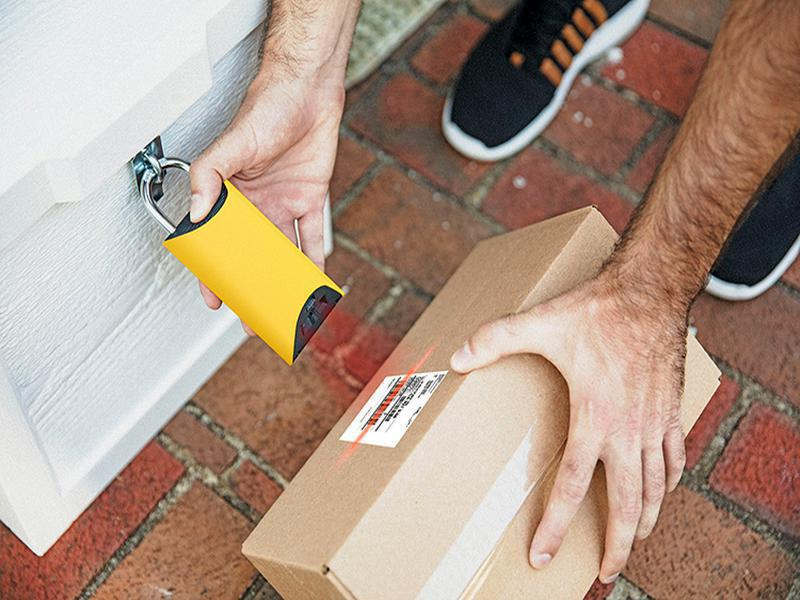package: (225, 192, 730, 585)
